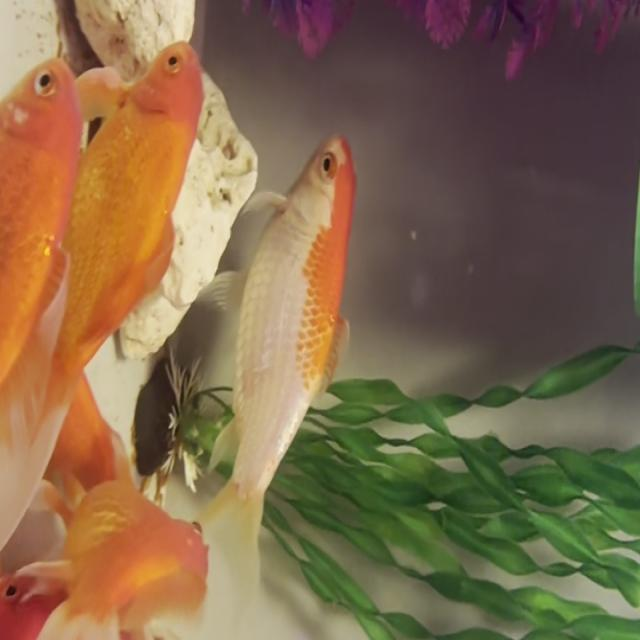fish: (200, 132, 356, 579), (43, 39, 205, 429), (0, 50, 93, 640), (55, 455, 212, 640)
